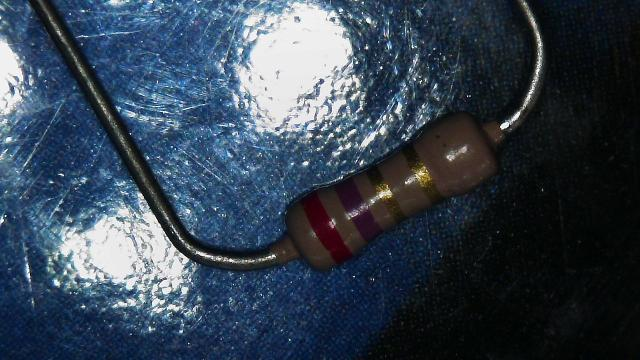gold: (402, 142, 442, 204), (366, 165, 404, 222)
red: (300, 192, 352, 264)
resistor: (237, 77, 529, 300)
violet: (336, 177, 382, 242)
